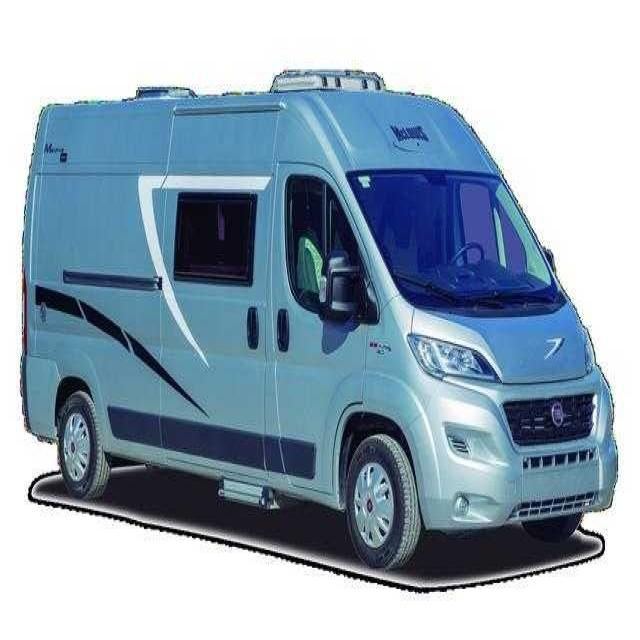Van: (22, 59, 624, 571)
